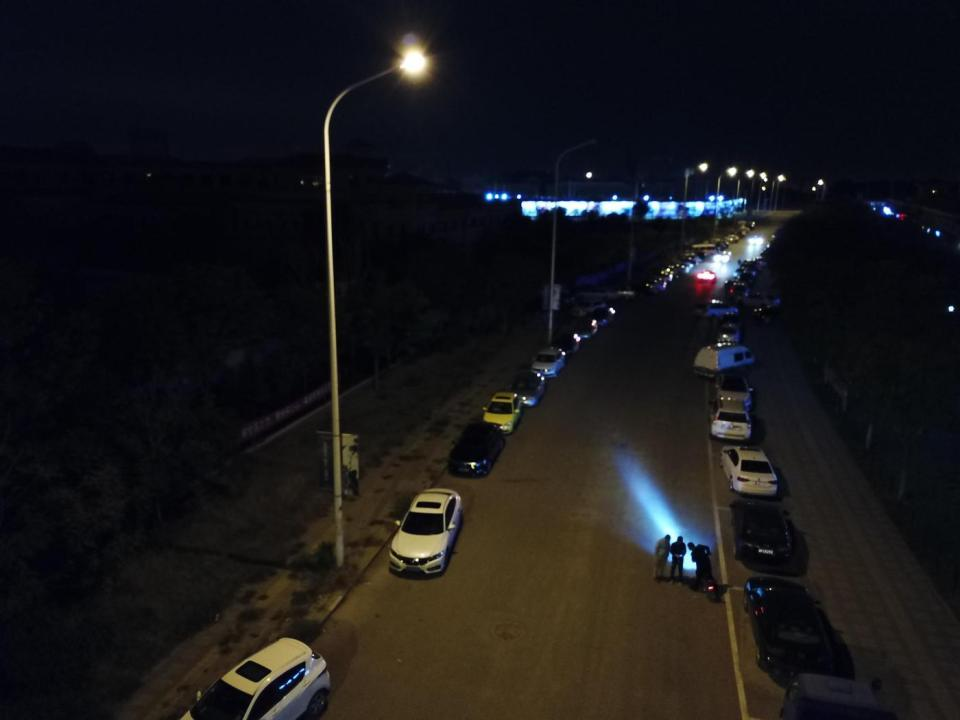car: (176, 633, 333, 720), (740, 572, 836, 676), (386, 486, 464, 577), (727, 496, 795, 564), (720, 442, 784, 497), (446, 420, 507, 476), (705, 392, 756, 443), (481, 389, 524, 434), (711, 370, 754, 412), (753, 301, 811, 332), (509, 366, 547, 408), (530, 344, 566, 379), (694, 297, 739, 322), (549, 328, 584, 356), (736, 292, 784, 312), (574, 285, 618, 303), (570, 298, 607, 318), (620, 280, 655, 300), (589, 307, 619, 328), (571, 318, 599, 340), (717, 322, 740, 348), (634, 275, 666, 292), (718, 311, 743, 332), (606, 283, 636, 300), (728, 282, 751, 299), (697, 265, 718, 282), (722, 278, 745, 290), (747, 232, 764, 247), (720, 233, 741, 244), (700, 243, 723, 253), (682, 253, 702, 264), (713, 251, 732, 262), (737, 274, 754, 286), (712, 238, 730, 249), (716, 234, 734, 245), (706, 241, 726, 250), (732, 268, 747, 279), (691, 251, 707, 261), (742, 266, 758, 276)
van: (691, 342, 756, 381), (691, 243, 716, 256)
